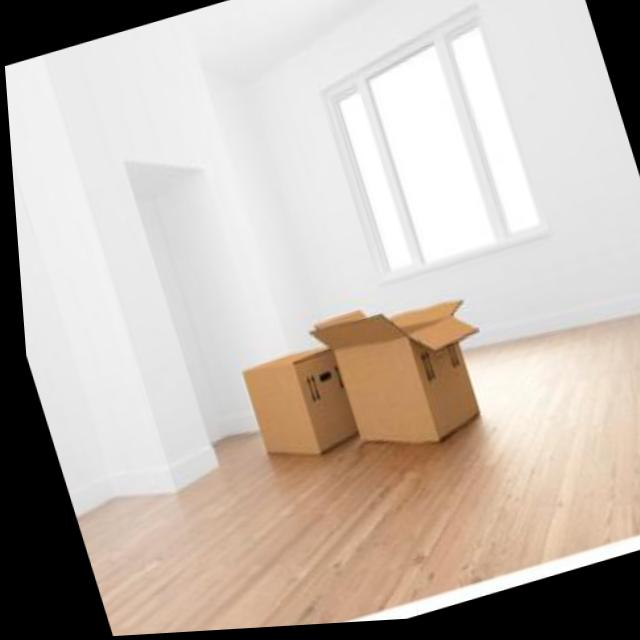box: (291, 251, 512, 496), (222, 330, 367, 490)
